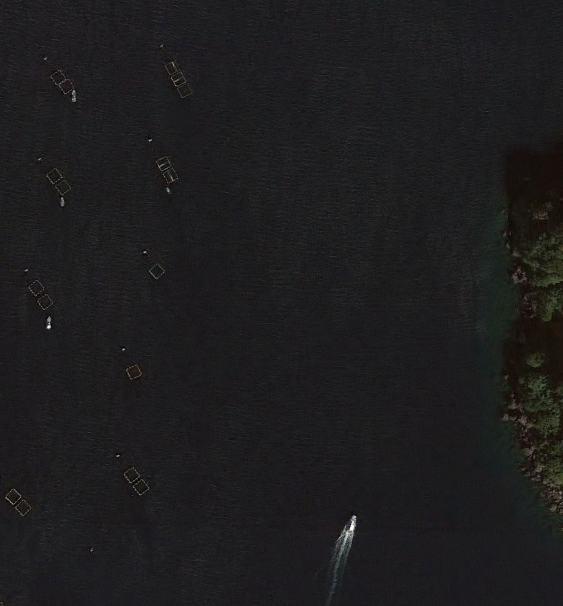ship: (339, 509, 361, 541)
square: (57, 77, 88, 105), (52, 177, 77, 202), (42, 163, 65, 189), (146, 260, 172, 282), (12, 496, 35, 520), (1, 486, 24, 508), (124, 363, 145, 386), (131, 477, 153, 498), (48, 68, 70, 89), (35, 292, 55, 314), (159, 164, 181, 184), (122, 463, 140, 487), (25, 277, 44, 299), (154, 152, 171, 175)
